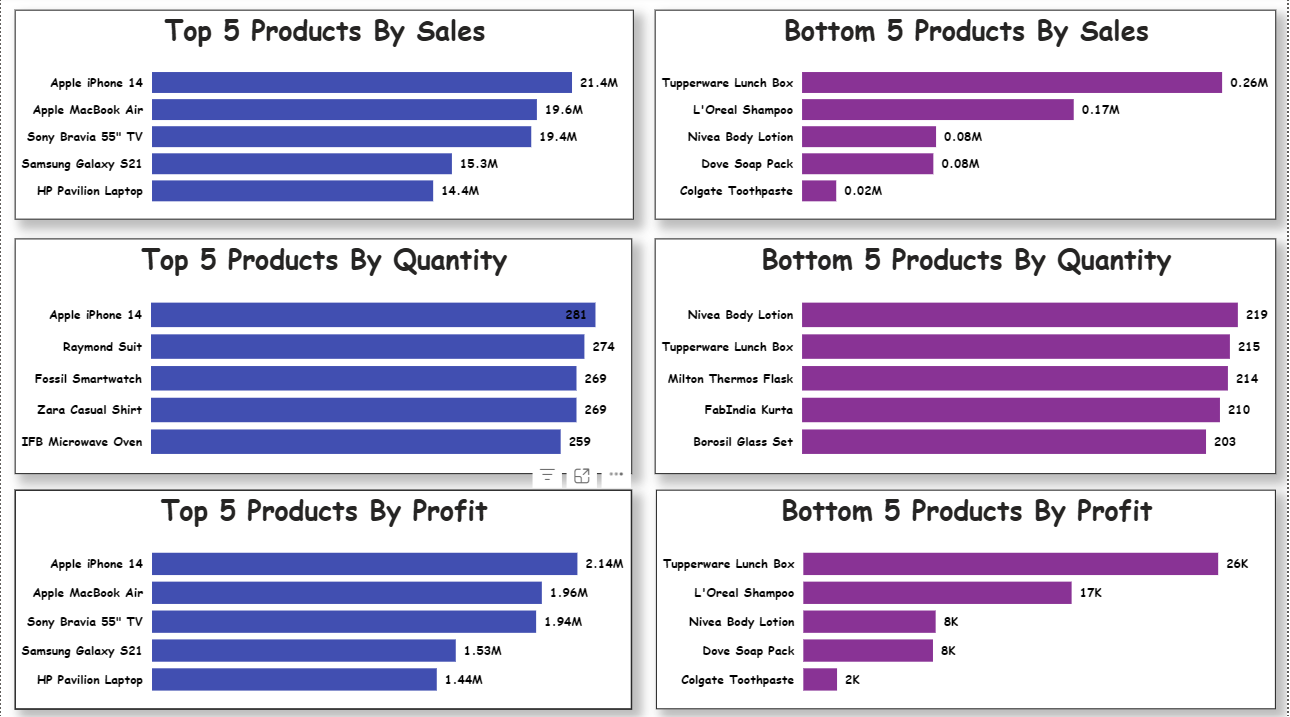

The dashboard page shown, as its layout file describes it:
{"tool":"powerbi","page":{"name":"TOP/BOTTOM  ANALYSIS","canvas":[1280,720],"ordinal":1},"visuals":[{"type":"barChart","title":"Top 5 Products By Sales","fields":{"Category":["Dim Product.Product Name"],"Y":["Sum(fact Table.Net Sales   )"]},"box":[14.3,14.3,615.7,208.6],"z":0},{"type":"barChart","title":"Bottom 5 Products By Sales","fields":{"Category":["Dim Product.Product Name"],"Y":["Sum(fact Table.Net Sales   )"]},"box":[650,14.3,618.6,208.6],"z":1000},{"type":"barChart","title":"Top 5 Products By Quantity","fields":{"Category":["Dim Product.Product Name"],"Y":["Sum(fact Table.Units Sold)"]},"box":[14.3,241.4,614.3,234.3],"z":2000},{"type":"barChart","title":"Bottom 5 Products By Quantity","fields":{"Category":["Dim Product.Product Name"],"Y":["Sum(fact Table.Units Sold)"]},"box":[650,241.4,618.6,234.3],"z":3000},{"type":"barChart","title":"Top 5 Products By Profit","fields":{"Category":["Dim Product.Product Name"],"Y":["Sum(fact Table.Profit )"]},"box":[14.3,491.4,614.3,218.6],"z":4000},{"type":"barChart","title":"Bottom 5 Products By Profit","fields":{"Category":["Dim Product.Product Name"],"Y":["Sum(fact Table.Profit )"]},"box":[651.4,491.4,617.1,218.6],"z":5000}]}

Visuals, with their boxes in screenshot pixels (x1, y1, x2, y2), scaled from the page's 1280x720 canvas onto the 1290x717 screenshot:
"Top 5 Products By Sales" barChart: {"left": 14, "top": 14, "right": 635, "bottom": 222}
"Bottom 5 Products By Sales" barChart: {"left": 655, "top": 14, "right": 1279, "bottom": 222}
"Top 5 Products By Quantity" barChart: {"left": 14, "top": 240, "right": 634, "bottom": 474}
"Bottom 5 Products By Quantity" barChart: {"left": 655, "top": 240, "right": 1279, "bottom": 474}
"Top 5 Products By Profit" barChart: {"left": 14, "top": 489, "right": 634, "bottom": 707}
"Bottom 5 Products By Profit" barChart: {"left": 656, "top": 489, "right": 1278, "bottom": 707}
